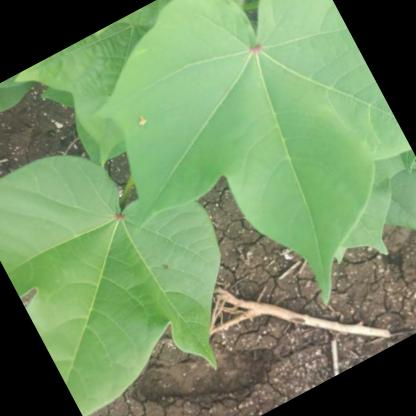cotton: (99, 0, 416, 347), (0, 113, 260, 416)
